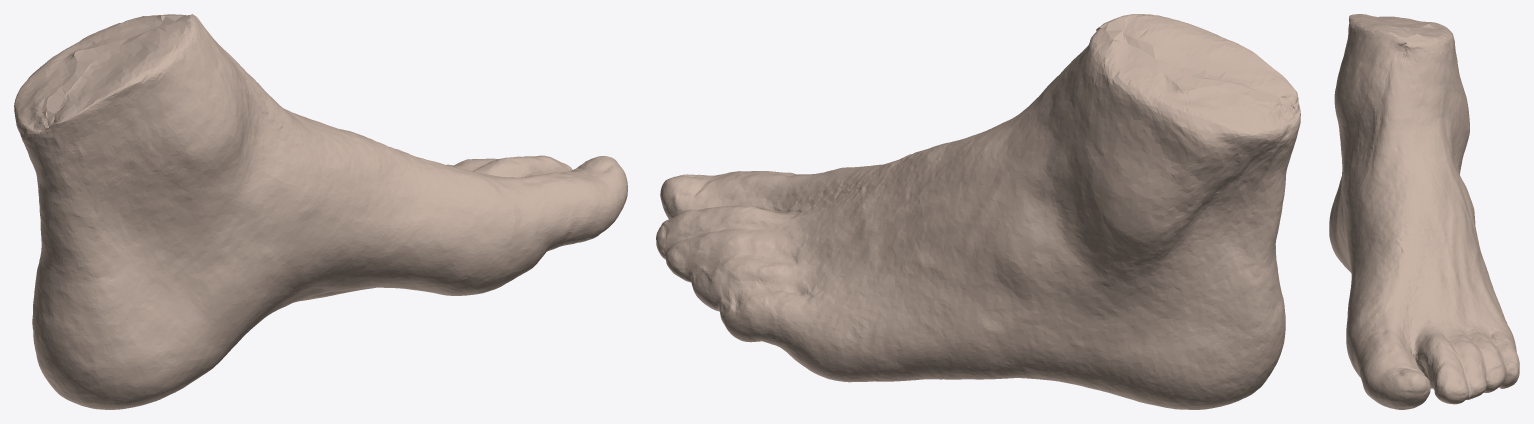
The model's file is foot_model.glb.
3 renders of one model, left to right at view 1: azimuth 30°, elevation 25°; view 2: azimuth 150°, elevation 25°; view 3: azimuth 270°, elevation 25°, orthographic. The views are drawn at different scales.
Visible parts, largest first — view 1: geometry_0; view 2: geometry_0; view 3: geometry_0.
Boxes of the visible parts, x1,y1,x2,y2 form: geometry_0: [14, 14, 627, 409]; geometry_0: [656, 14, 1300, 409]; geometry_0: [1329, 14, 1519, 409].
Bounding box in the file's own units: 0.2642 × 0.1501 × 0.0965.
